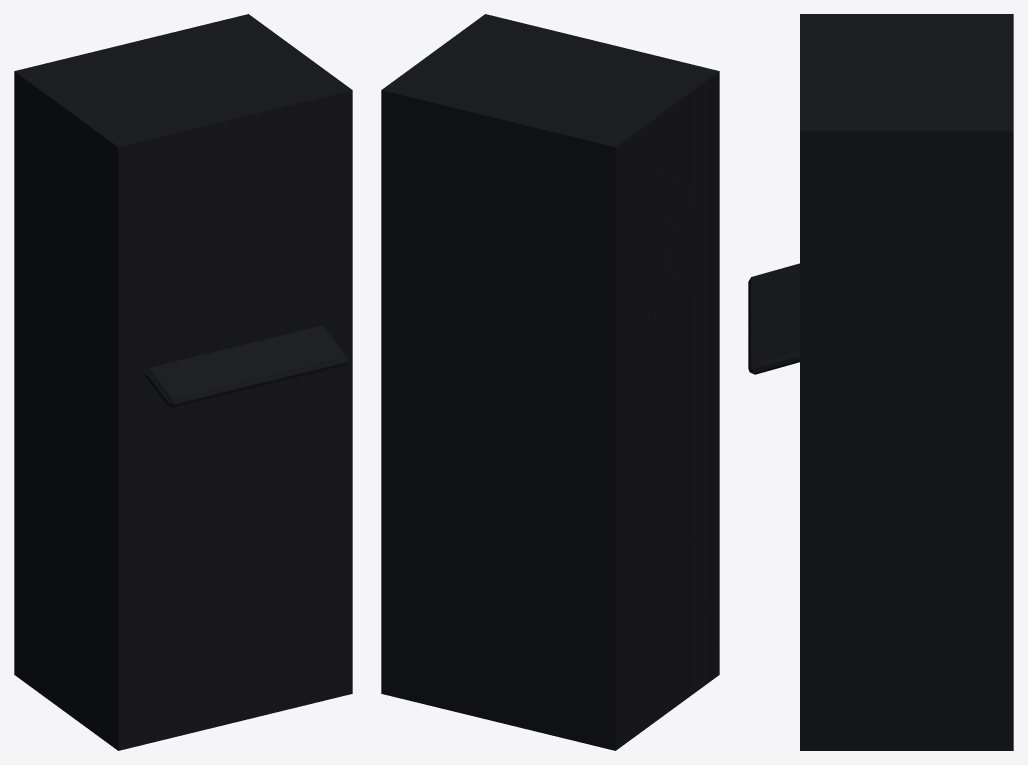
The model's file is kit_terminal.glb.
The picture shows the model from 3 angles, left to right: view 1: azimuth 30°, elevation 25°; view 2: azimuth 150°, elevation 25°; view 3: azimuth 270°, elevation 25°; orthographic projection. The views are drawn at different scales.
Visible parts, largest first — view 1: tm_COL, tm_keys; view 2: tm_COL, tm_head; view 3: tm_COL, tm_head, tm_keys.
Boxes of the visible parts, x1,y1,x2,y2 form: tm_COL: (14,14,352,750); tm_keys: (145,325,348,407); tm_COL: (381,14,719,750); tm_head: (651,118,704,311); tm_COL: (800,14,1013,750); tm_head: (831,149,939,345); tm_keys: (748,263,799,374).
Bounding box in the file's own units: 0.65 × 1.6 × 0.6209.
3 materials, 3 textured.
